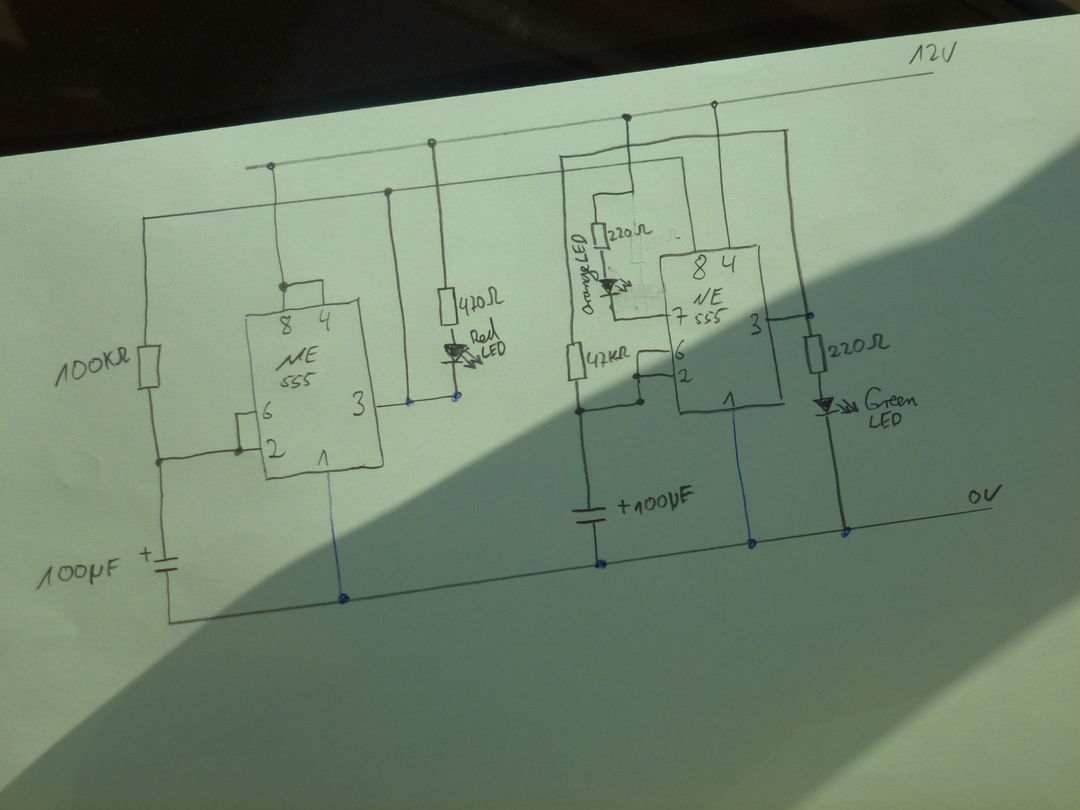capacitor.polarized: (571, 498, 631, 526), (139, 545, 180, 574)
crossover: (431, 180, 445, 191), (713, 130, 726, 141), (557, 166, 569, 175), (624, 158, 636, 167), (271, 199, 281, 209), (624, 141, 634, 150)
diode.light_emitting: (440, 343, 484, 370), (811, 395, 860, 419), (598, 277, 633, 298)
integrated_cricuit.ne555: (243, 296, 385, 481), (658, 242, 786, 416)
junction: (337, 591, 351, 606), (745, 537, 759, 552), (593, 558, 609, 571), (839, 525, 853, 539), (277, 280, 291, 293), (153, 455, 166, 468), (382, 186, 395, 199), (450, 390, 463, 403), (265, 160, 279, 172), (233, 445, 245, 458), (426, 137, 439, 149), (403, 395, 415, 408), (621, 112, 635, 123), (802, 310, 816, 321), (574, 405, 586, 417), (165, 618, 178, 629), (632, 370, 643, 382), (633, 348, 644, 359), (635, 397, 646, 408), (139, 214, 151, 224), (709, 99, 721, 109), (318, 275, 328, 286), (629, 186, 639, 197), (232, 409, 242, 418), (781, 126, 791, 135), (611, 315, 620, 325), (678, 153, 687, 162), (557, 153, 567, 161), (590, 190, 598, 199)
resistor: (136, 342, 163, 391), (802, 332, 828, 377), (436, 284, 460, 329), (565, 340, 588, 383), (589, 219, 611, 254)
terminal: (927, 69, 938, 79), (985, 504, 995, 514)
text: (54, 346, 131, 388), (35, 556, 121, 590), (864, 385, 919, 429), (570, 233, 599, 315), (273, 343, 319, 389), (633, 484, 695, 517), (469, 316, 507, 359), (827, 333, 891, 358), (691, 286, 729, 325), (459, 286, 505, 317), (908, 40, 958, 65), (587, 345, 630, 369), (608, 223, 653, 242), (968, 483, 1003, 505), (265, 437, 287, 460), (350, 390, 367, 418), (692, 254, 709, 281), (671, 305, 689, 326), (318, 308, 333, 332), (749, 312, 763, 337), (673, 338, 687, 361), (721, 253, 736, 274), (279, 314, 293, 336), (317, 449, 331, 468), (261, 400, 274, 420), (678, 367, 693, 384), (722, 390, 736, 408)
